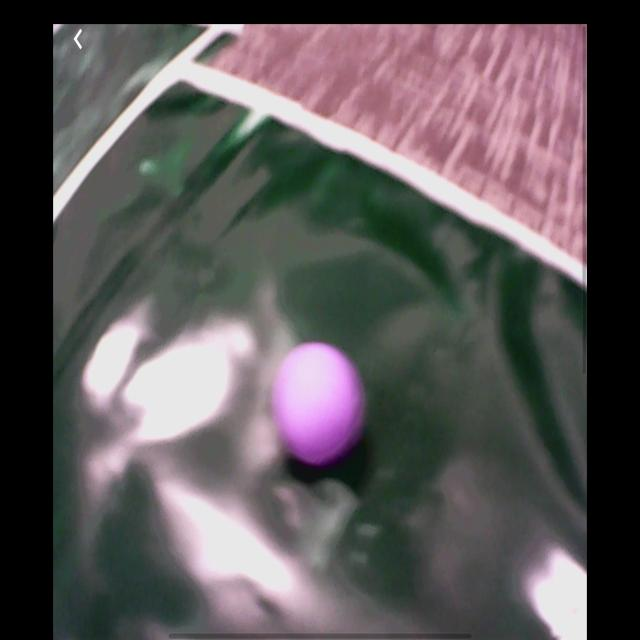ball: (275, 344, 361, 462)
